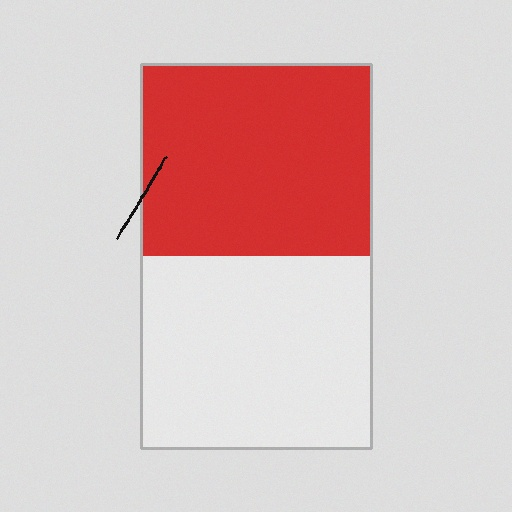scratch: (112, 152, 171, 243)
